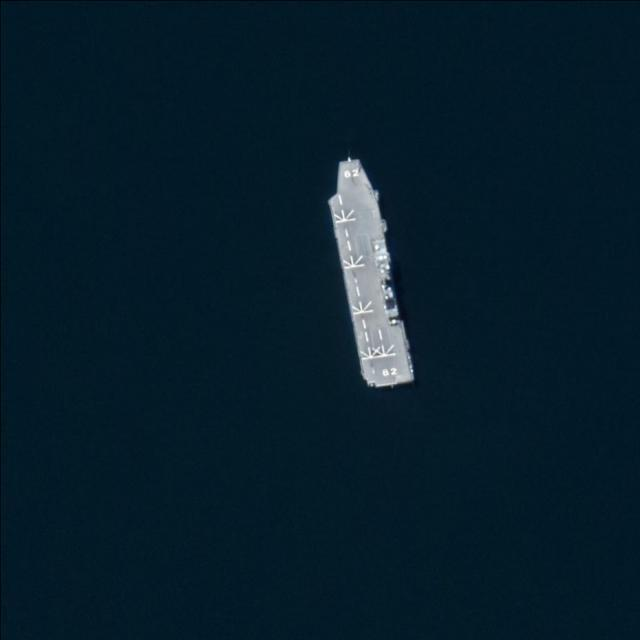Destroyer: (322, 153, 412, 390)
